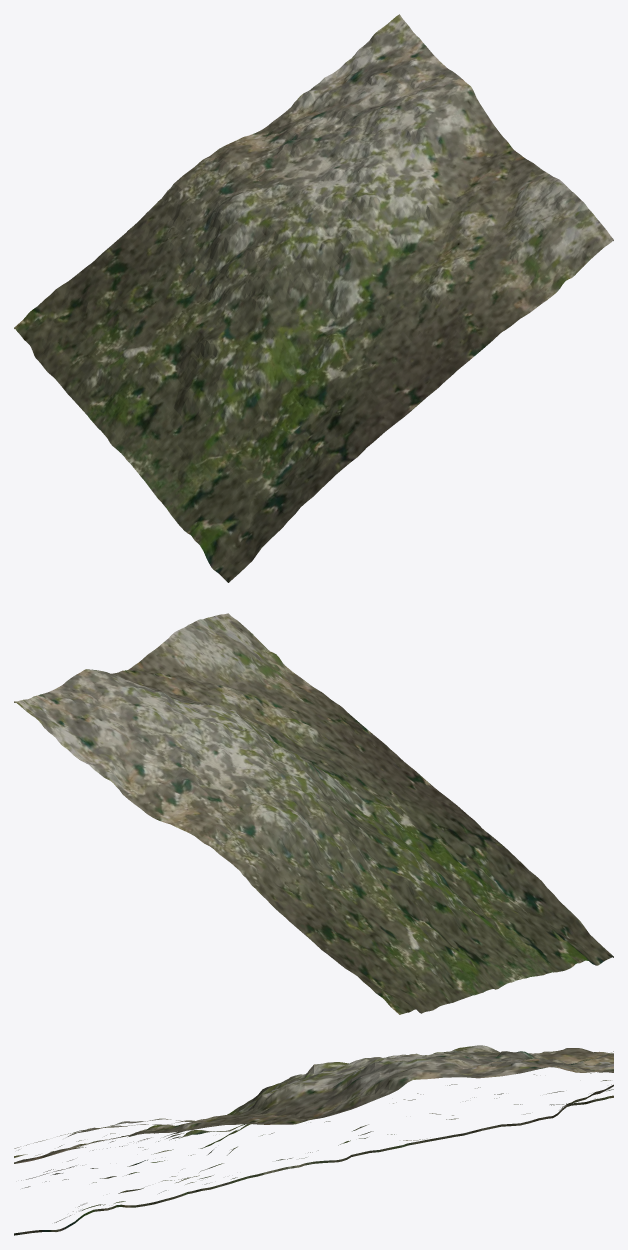
3 renders of one model, top to bottom at view 1: azimuth 30°, elevation 25°; view 2: azimuth 150°, elevation 25°; view 3: azimuth 270°, elevation 25°, orthographic. The views are drawn at different scales.
Size of the model in its own units: 250 by 198 by 241.
1 material, 1 textured.
